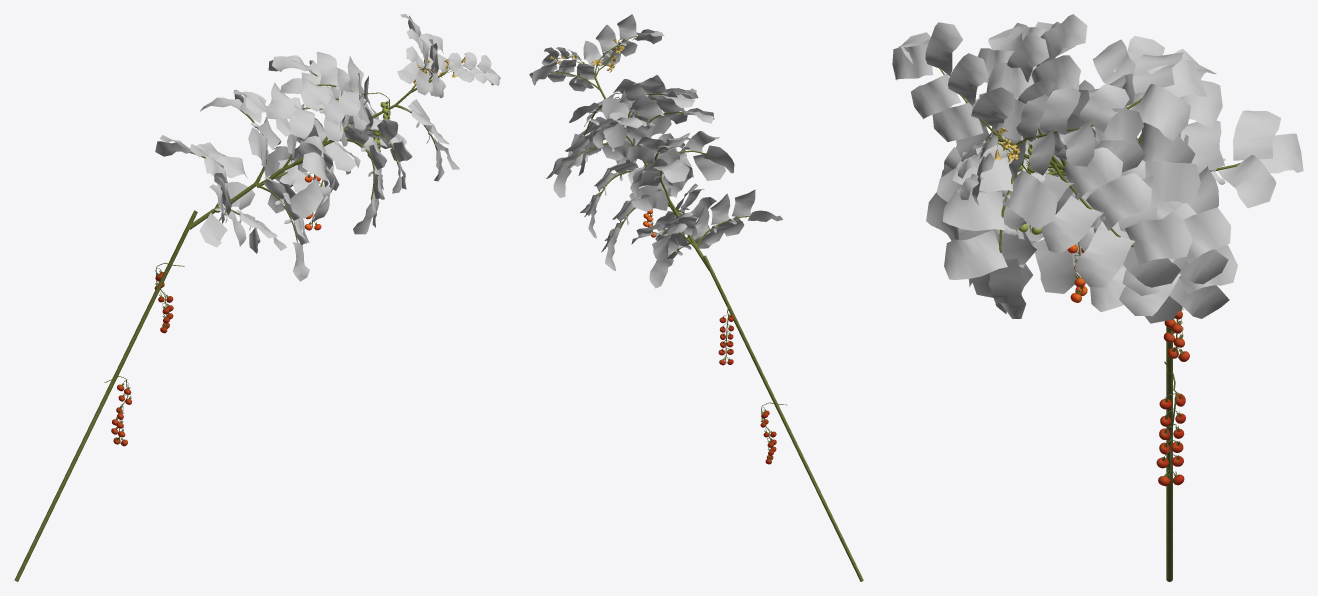
File: tomato_vine_repo.dae
The picture shows the model from 3 angles, left to right: view 1: azimuth 30°, elevation 25°; view 2: azimuth 150°, elevation 25°; view 3: azimuth 270°, elevation 25°; orthographic projection. The views are drawn at different scales.
Visible parts, largest first — view 1: Leaf1, Branch1, Sphere.001; view 2: Leaf1, Branch1, Sphere.001; view 3: Leaf1, Branch1, Sphere.001.
Part boxes in pixels (x1,y1,x2,y2): Leaf1: (155,14,500,281); Branch1: (14,36,485,581); Sphere.001: (111,272,173,446); Leaf1: (529,14,782,288); Branch1: (550,36,863,581); Sphere.001: (718,314,776,464); Leaf1: (892,14,1303,323); Branch1: (938,62,1239,581); Sphere.001: (1156,310,1189,486).
Bounding box in the file's own units: 1.98 × 1.04 × 2.28.
